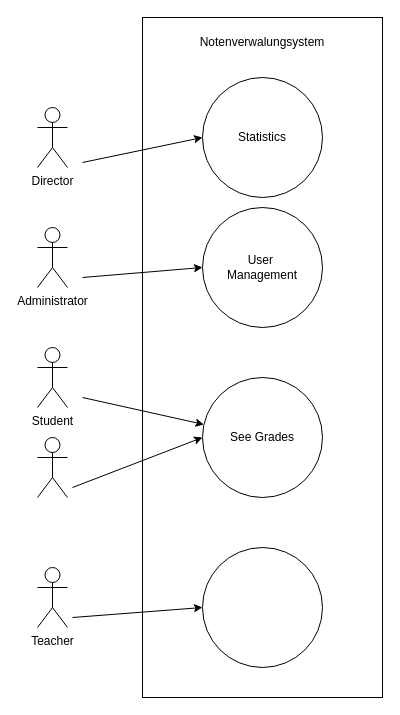
Image size: 400x715. Some labels were removed from this diagram. Here are the shapes that lost their labels. From the top down, the centre of each, then its label:
At point 52,467: "Parent".
At point 262,607: "Manage Grades".
